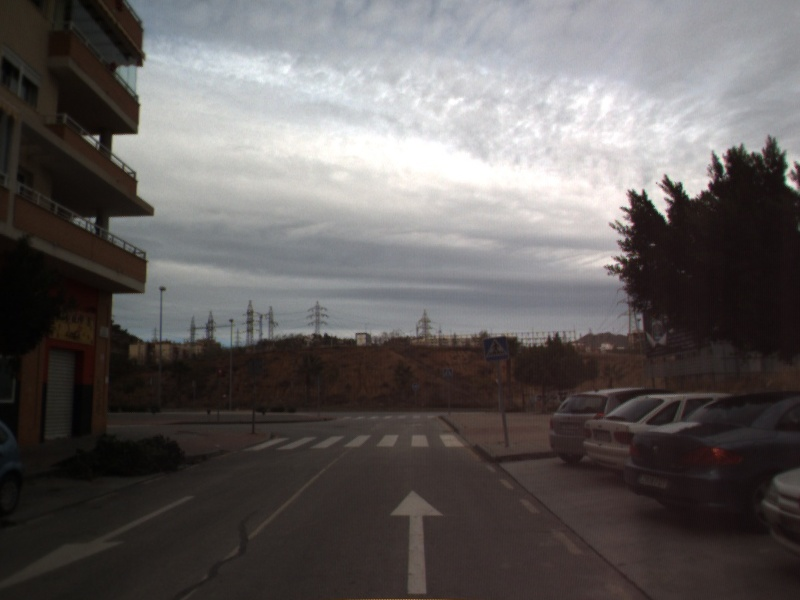STRAIGHT: (388, 487, 446, 595)
